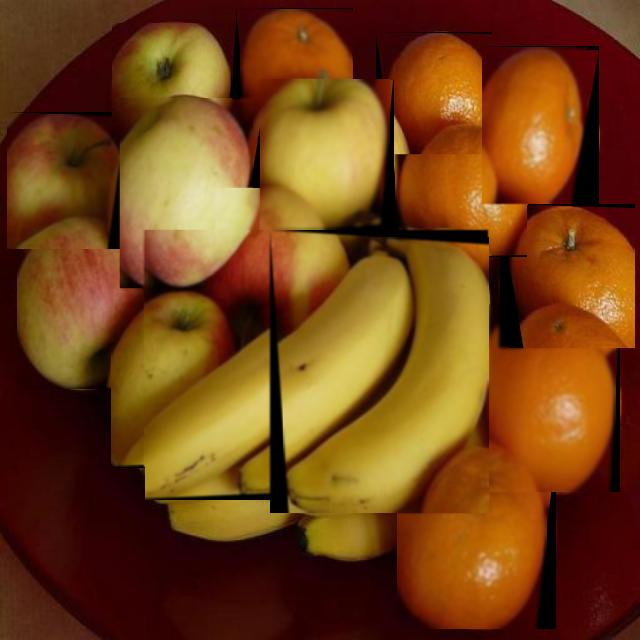Apple: (18, 209, 158, 388), (121, 99, 253, 288), (112, 292, 243, 467), (216, 188, 344, 355), (260, 80, 390, 230), (8, 114, 122, 249), (113, 24, 232, 137)
Banana: (145, 230, 405, 500), (283, 237, 489, 513)
Orange: (397, 439, 547, 629), (479, 306, 616, 492), (395, 119, 527, 255), (510, 205, 634, 348), (483, 48, 588, 203), (383, 33, 492, 154), (241, 9, 352, 127)
